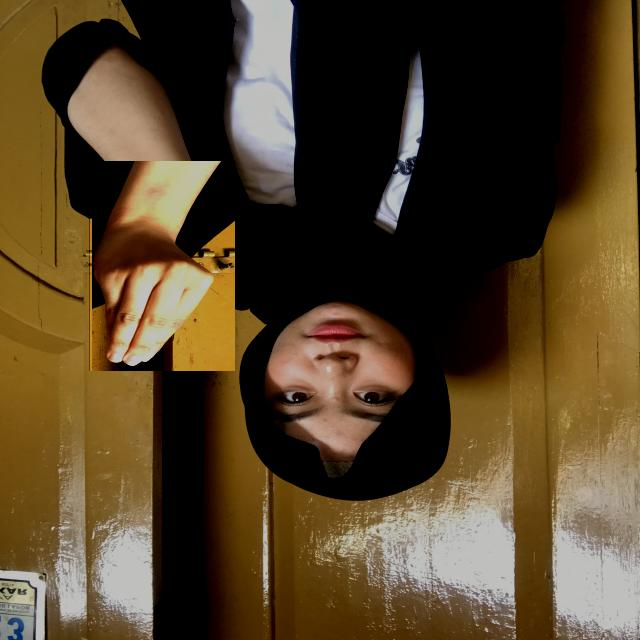kapan: (88, 161, 234, 371)
